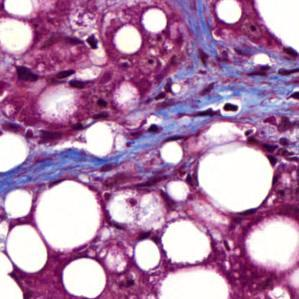steatosis: (198, 140, 276, 215), (112, 24, 146, 56)
